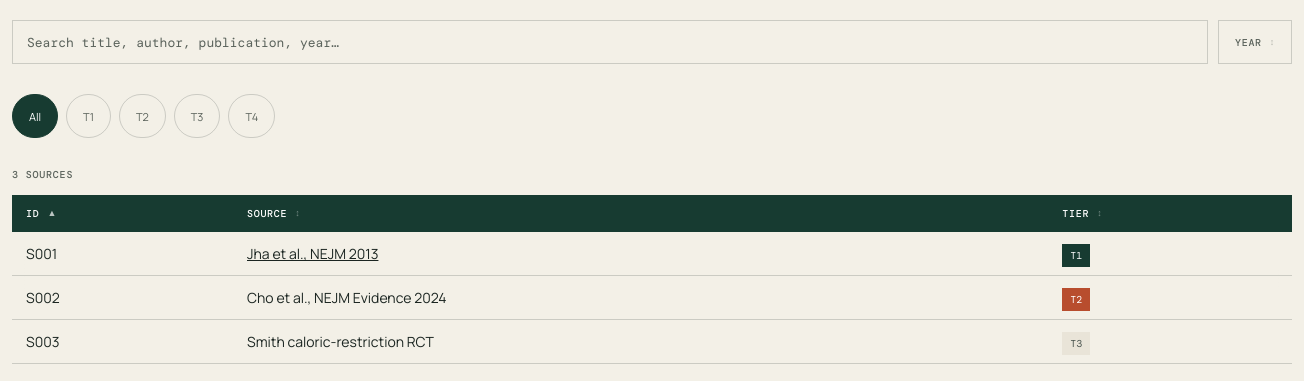
SourcesTable › searches across the citation text
The width and height of the screenshot is (1304, 381).
Type "evidence" into the search field. click: (610, 42)
box: x1=12 y1=20 x2=1208 y2=64
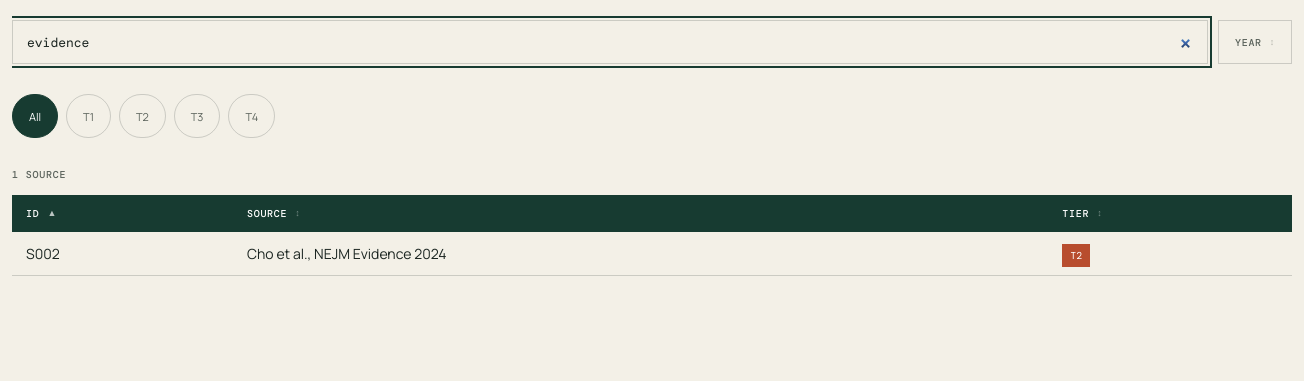
Expected: the text "Cho et al., NEJM Evidence 2024" is shown, x1=233 y1=232 x2=1048 y2=276
Result: the link "Jha et al., NEJM 2013" is gone
